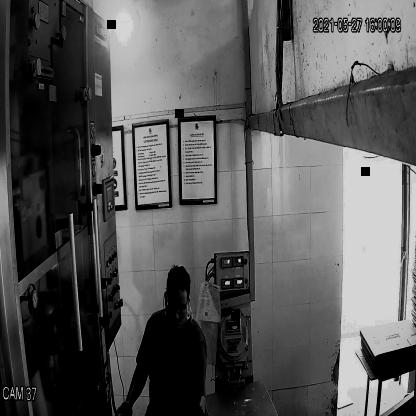goggles: (161, 294, 189, 319)
